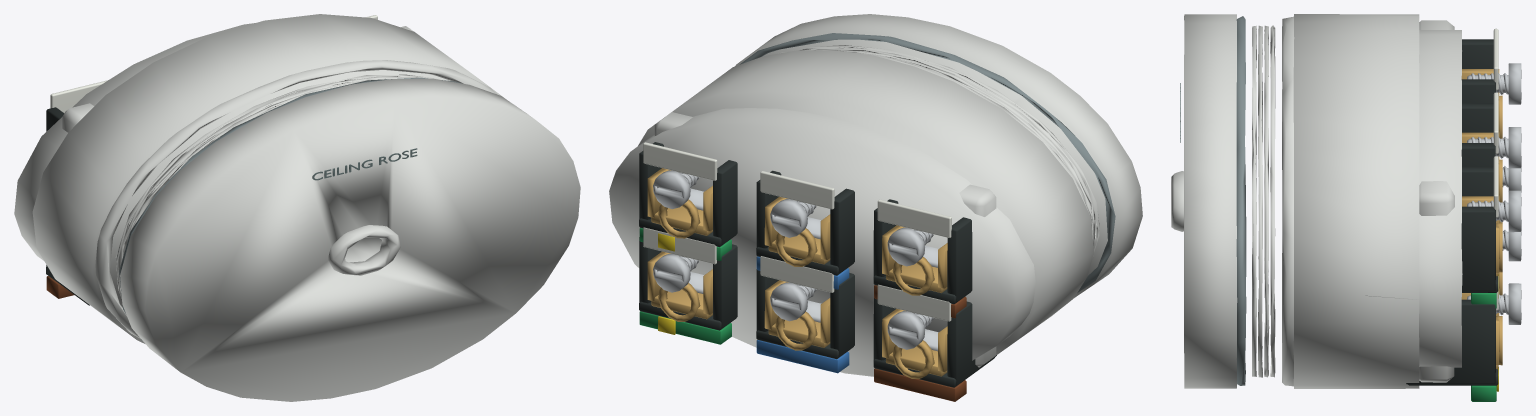
Rendered from rose_default.low.glb.
The picture shows the model from 3 angles, left to right: view 1: azimuth 30°, elevation 25°; view 2: azimuth 150°, elevation 25°; view 3: azimuth 270°, elevation 25°; orthographic projection. The views are drawn at different scales.
Parts seen in each view (by area): view 1: part:cover · Satin moulded white plastic, part:body · Satin moulded white plastic, part:terminals · Satin moulded white plastic, Cord exit strain-relief, Cap seam, Moulded terminal legend pad, mark:CEILING ROSE; view 2: part:terminals · Satin moulded white plastic, part:body · Satin moulded white plastic, part:cover · Satin moulded white plastic, Cap seam, detail:terminal-clamp:LOUT · Detail moulded engineering poly, detail:terminal-clamp:L · Detail moulded engineering polymer, detail:terminal-clamp:N · Detail moulded engineering polymer, detail:terminal-clamp:PE · Detail moulded engineering polyme, detail:terminal-clamp:PEOUT · Detail moulded engineering pol, detail:terminal-clamp:NOUT · Detail moulded engineering poly, detail:terminal-clamp:NOUT · Detail machined brass, detail:terminal-clamp:N · Detail machined brass (+19 smaller); view 3: part:body · Satin moulded white plastic, part:cover · Satin moulded white plastic, part:terminals · Satin moulded white plastic, detail:terminal-clamp:PE · Detail moulded engineering polyme, Cap seam, detail:terminal-clamp:PEOUT · Detail moulded engineering pol, detail:terminal-clamp:N · Detail moulded engineering polymer, detail:terminal-clamp:L · Detail moulded engineering polymer, detail:terminal-clamp:PE · Detail zinc plated fixing, detail:terminal-clamp:L · Detail zinc plated fixing, detail:terminal-clamp:N · Detail zinc plated fixing, detail:terminal-clamp:PEOUT · Detail zinc plated fixing (+12 smaller).
Boxes of the visible parts, bbox=[...] form: part:cover · Satin moulded white plastic: bbox=[115, 74, 580, 401]; part:body · Satin moulded white plastic: bbox=[32, 14, 506, 343]; part:terminals · Satin moulded white plastic: bbox=[14, 23, 413, 260]; Cord exit strain-relief: bbox=[328, 225, 400, 275]; Cap seam: bbox=[119, 77, 461, 340]; Moulded terminal legend pad: bbox=[50, 80, 108, 113]; mark:CEILING ROSE: bbox=[312, 148, 417, 180]; part:terminals · Satin moulded white plastic: bbox=[609, 108, 1035, 375]; part:body · Satin moulded white plastic: bbox=[638, 50, 1093, 376]; part:cover · Satin moulded white plastic: bbox=[735, 14, 1142, 297]; Cap seam: bbox=[739, 33, 1115, 292]; detail:terminal-clamp:LOUT · Detail moulded engineering poly: bbox=[873, 298, 996, 387]; detail:terminal-clamp:L · Detail moulded engineering polymer: bbox=[873, 199, 972, 304]; detail:terminal-clamp:N · Detail moulded engineering polymer: bbox=[756, 170, 854, 275]; detail:terminal-clamp:PE · Detail moulded engineering polyme: bbox=[639, 142, 737, 247]; detail:terminal-clamp:PEOUT · Detail moulded engineering pol: bbox=[639, 237, 737, 330]; detail:terminal-clamp:NOUT · Detail moulded engineering poly: bbox=[756, 269, 854, 359]; detail:terminal-clamp:NOUT · Detail machined brass: bbox=[764, 280, 830, 350]; detail:terminal-clamp:N · Detail machined brass: bbox=[764, 196, 830, 266]; part:body · Satin moulded white plastic: bbox=[1282, 14, 1419, 388]; part:cover · Satin moulded white plastic: bbox=[1184, 14, 1275, 388]; part:terminals · Satin moulded white plastic: bbox=[1365, 20, 1462, 382]; detail:terminal-clamp:PE · Detail moulded engineering polyme: bbox=[1461, 166, 1498, 292]; Cap seam: bbox=[1236, 16, 1246, 385]; detail:terminal-clamp:PEOUT · Detail moulded engineering pol: bbox=[1406, 299, 1498, 385]; detail:terminal-clamp:N · Detail moulded engineering polymer: bbox=[1461, 103, 1495, 166]; detail:terminal-clamp:L · Detail moulded engineering polymer: bbox=[1461, 39, 1495, 102]; detail:terminal-clamp:PE · Detail zinc plated fixing: bbox=[1467, 190, 1521, 232]; detail:terminal-clamp:L · Detail zinc plated fixing: bbox=[1467, 63, 1521, 104]; detail:terminal-clamp:N · Detail zinc plated fixing: bbox=[1467, 127, 1521, 168]; detail:terminal-clamp:PEOUT · Detail zinc plated fixing: bbox=[1467, 283, 1521, 324].
Bounding box in the file's own units: 0.6482 × 0.4068 × 0.429.
